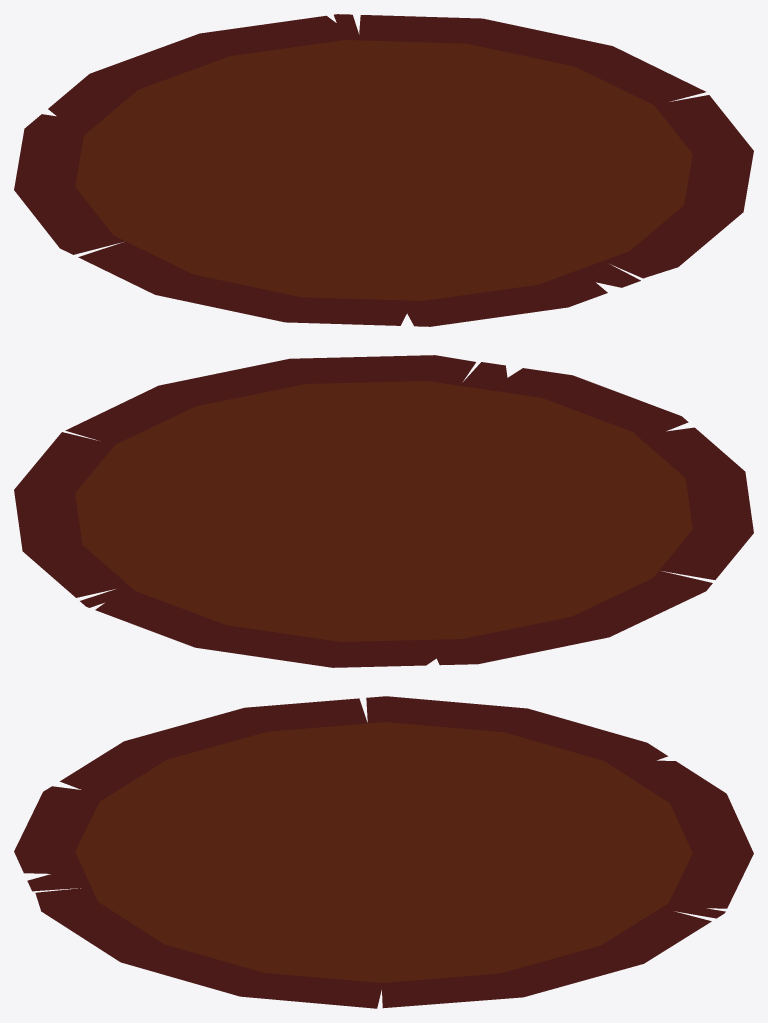
The picture shows the model from 3 angles, top to bottom: view 1: azimuth 30°, elevation 25°; view 2: azimuth 150°, elevation 25°; view 3: azimuth 270°, elevation 25°; orthographic projection.
Parts seen in each view (by area): view 1: Rag; view 2: Rag; view 3: Rag.
Boxes of the visible parts, <box> form: Rag: <box>14,14,753,326</box>; Rag: <box>14,355,753,667</box>; Rag: <box>14,696,753,1008</box>.
Size of the model in its own units: 4.06 by 0.00412 by 4.06.
